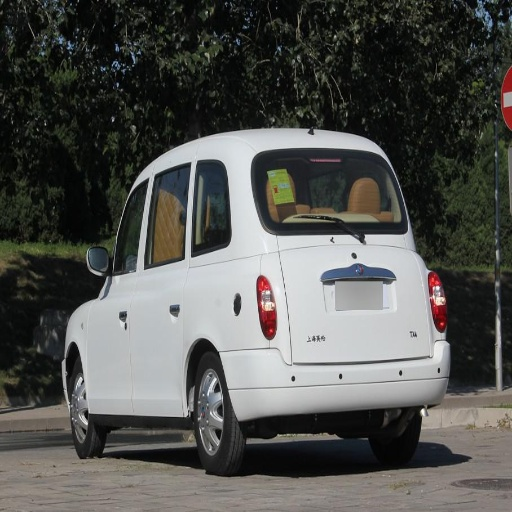back_bumper: (227, 323, 445, 442)
back_glass: (255, 151, 403, 233)
back_left_door: (134, 160, 220, 415)
trunk: (265, 236, 428, 362)
